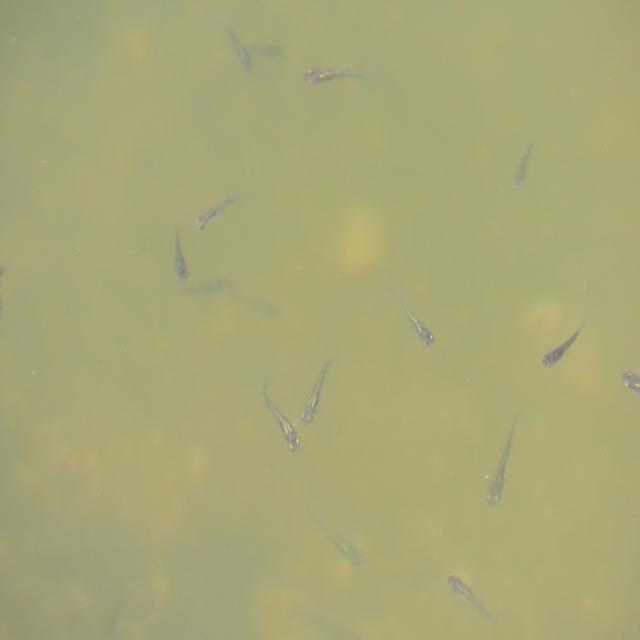Sivrisinek Baligi: (482, 416, 520, 509), (310, 512, 368, 572), (445, 571, 502, 627), (388, 286, 438, 348), (261, 382, 302, 453), (540, 319, 588, 370), (302, 356, 336, 424), (192, 187, 244, 230), (303, 58, 368, 92), (222, 22, 261, 73), (510, 136, 538, 189), (168, 226, 193, 285)
